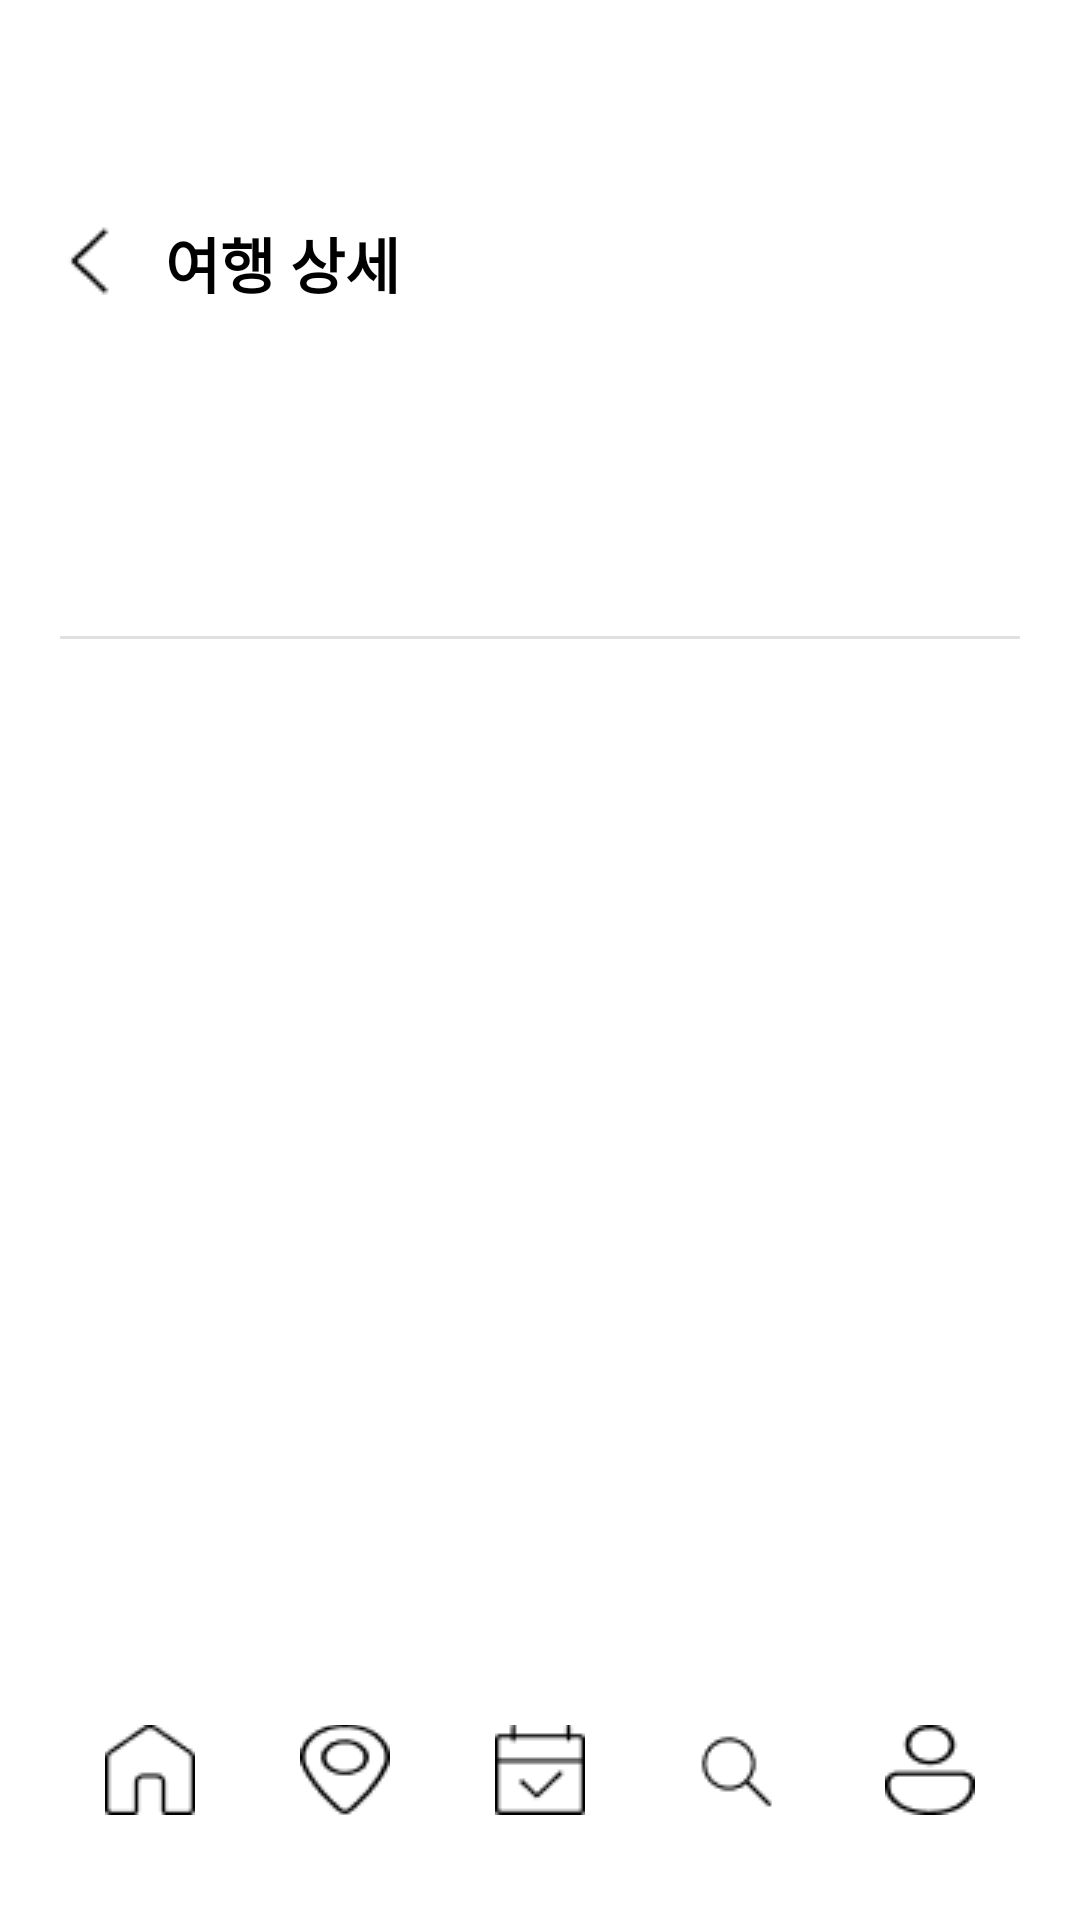

Icons on this 1080 × 1920 Android screen, each with the point to tap as (x=x, y=y):
back: (x=90, y=261)
home: (x=150, y=1770)
검색: (x=736, y=1771)
나만의 지도: (x=345, y=1770)
일정생성: (x=540, y=1770)
프로필: (x=930, y=1770)
